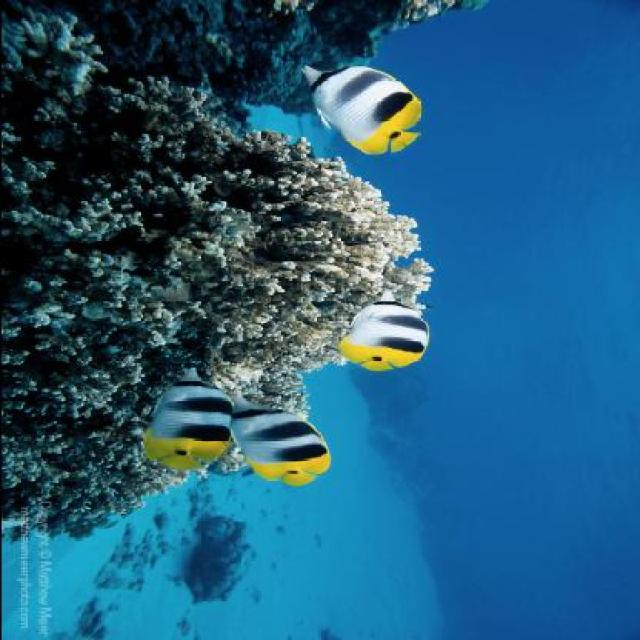ButterflyFish: (300, 60, 422, 160), (140, 380, 237, 471), (234, 405, 332, 486), (342, 299, 430, 371)
